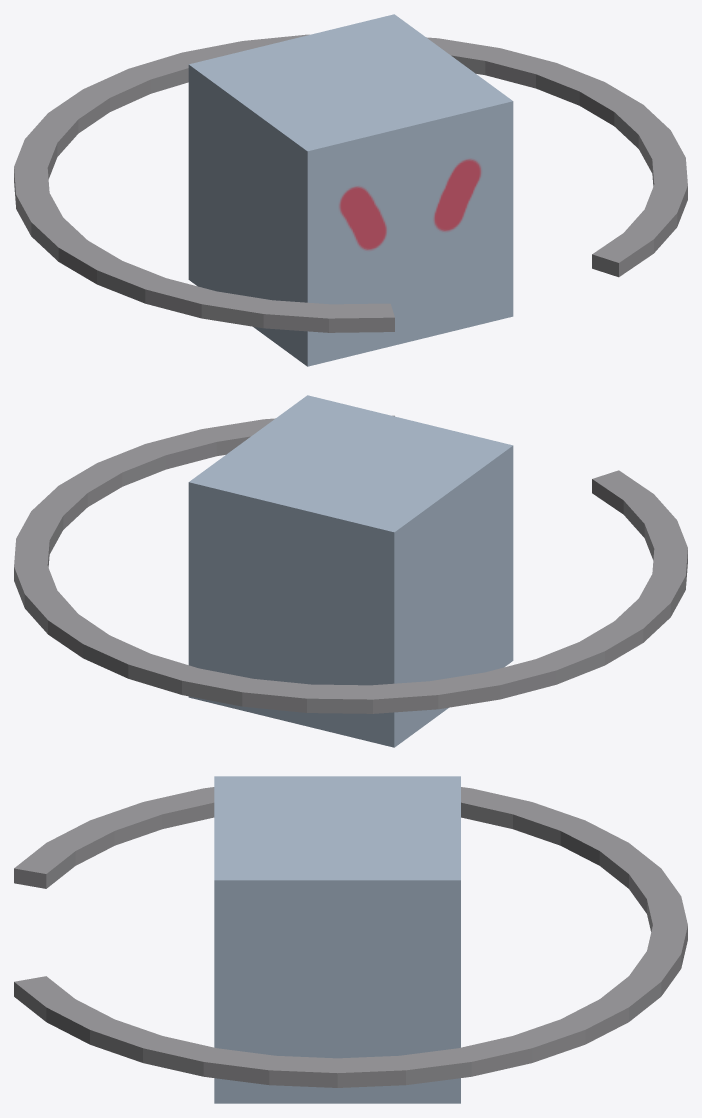
The model's file is boss.obj.
The picture shows the model from 3 angles, top to bottom: view 1: azimuth 30°, elevation 25°; view 2: azimuth 150°, elevation 25°; view 3: azimuth 270°, elevation 25°; orthographic projection. The views are drawn at different scales.
Visible parts, largest first — view 1: Cube; view 2: Cube; view 3: Cube.
Part boxes in pixels (bbox=[...]): Cube: bbox=[14, 14, 687, 366]; Cube: bbox=[14, 395, 687, 747]; Cube: bbox=[14, 776, 687, 1103].
Bounding box in the file's own units: 11.61 × 4.09 × 11.17.
